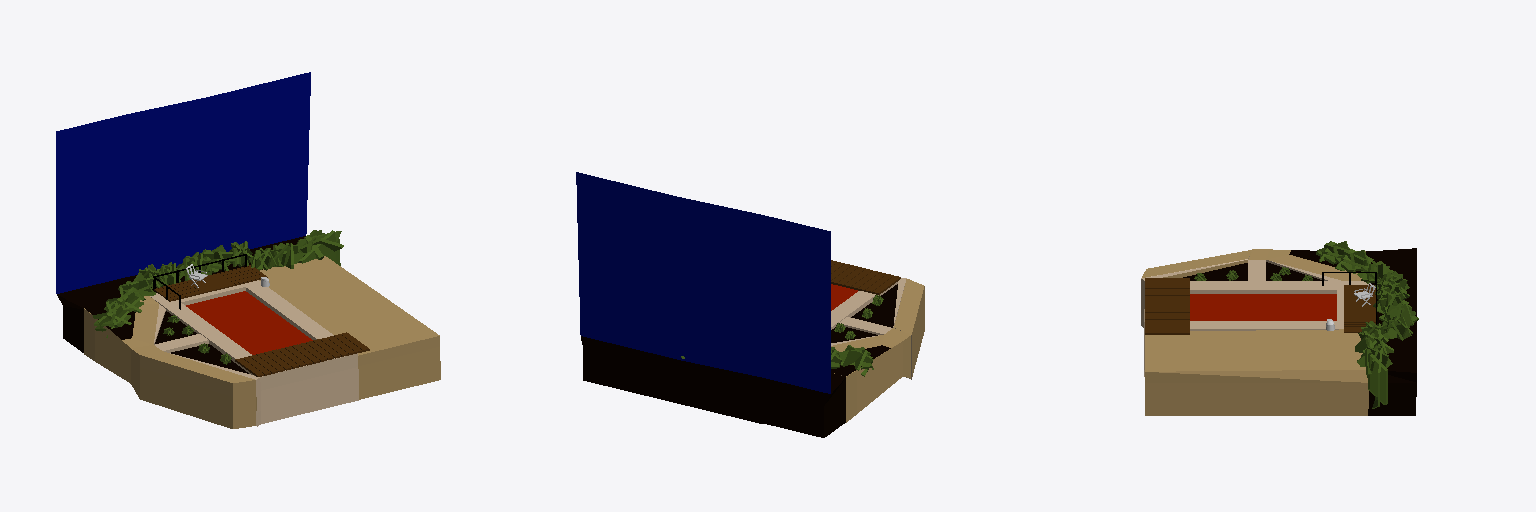
The model's file is calif.obj.
3 views of the same model, side by side, from view 1: azimuth 30°, elevation 25°; view 2: azimuth 150°, elevation 25°; view 3: azimuth 270°, elevation 25° (orthographic).
Visible parts, largest first — view 1: Cube.001_Cube.055; view 2: Cube.001_Cube.055; view 3: Cube.001_Cube.055.
Part boxes in pixels (left/top/right/bottom): Cube.001_Cube.055: left=56, top=72, right=440, bottom=428; Cube.001_Cube.055: left=576, top=172, right=924, bottom=437; Cube.001_Cube.055: left=1141, top=241, right=1418, bottom=415.
Size of the model in its own units: 15.4 by 11.74 by 13.91.